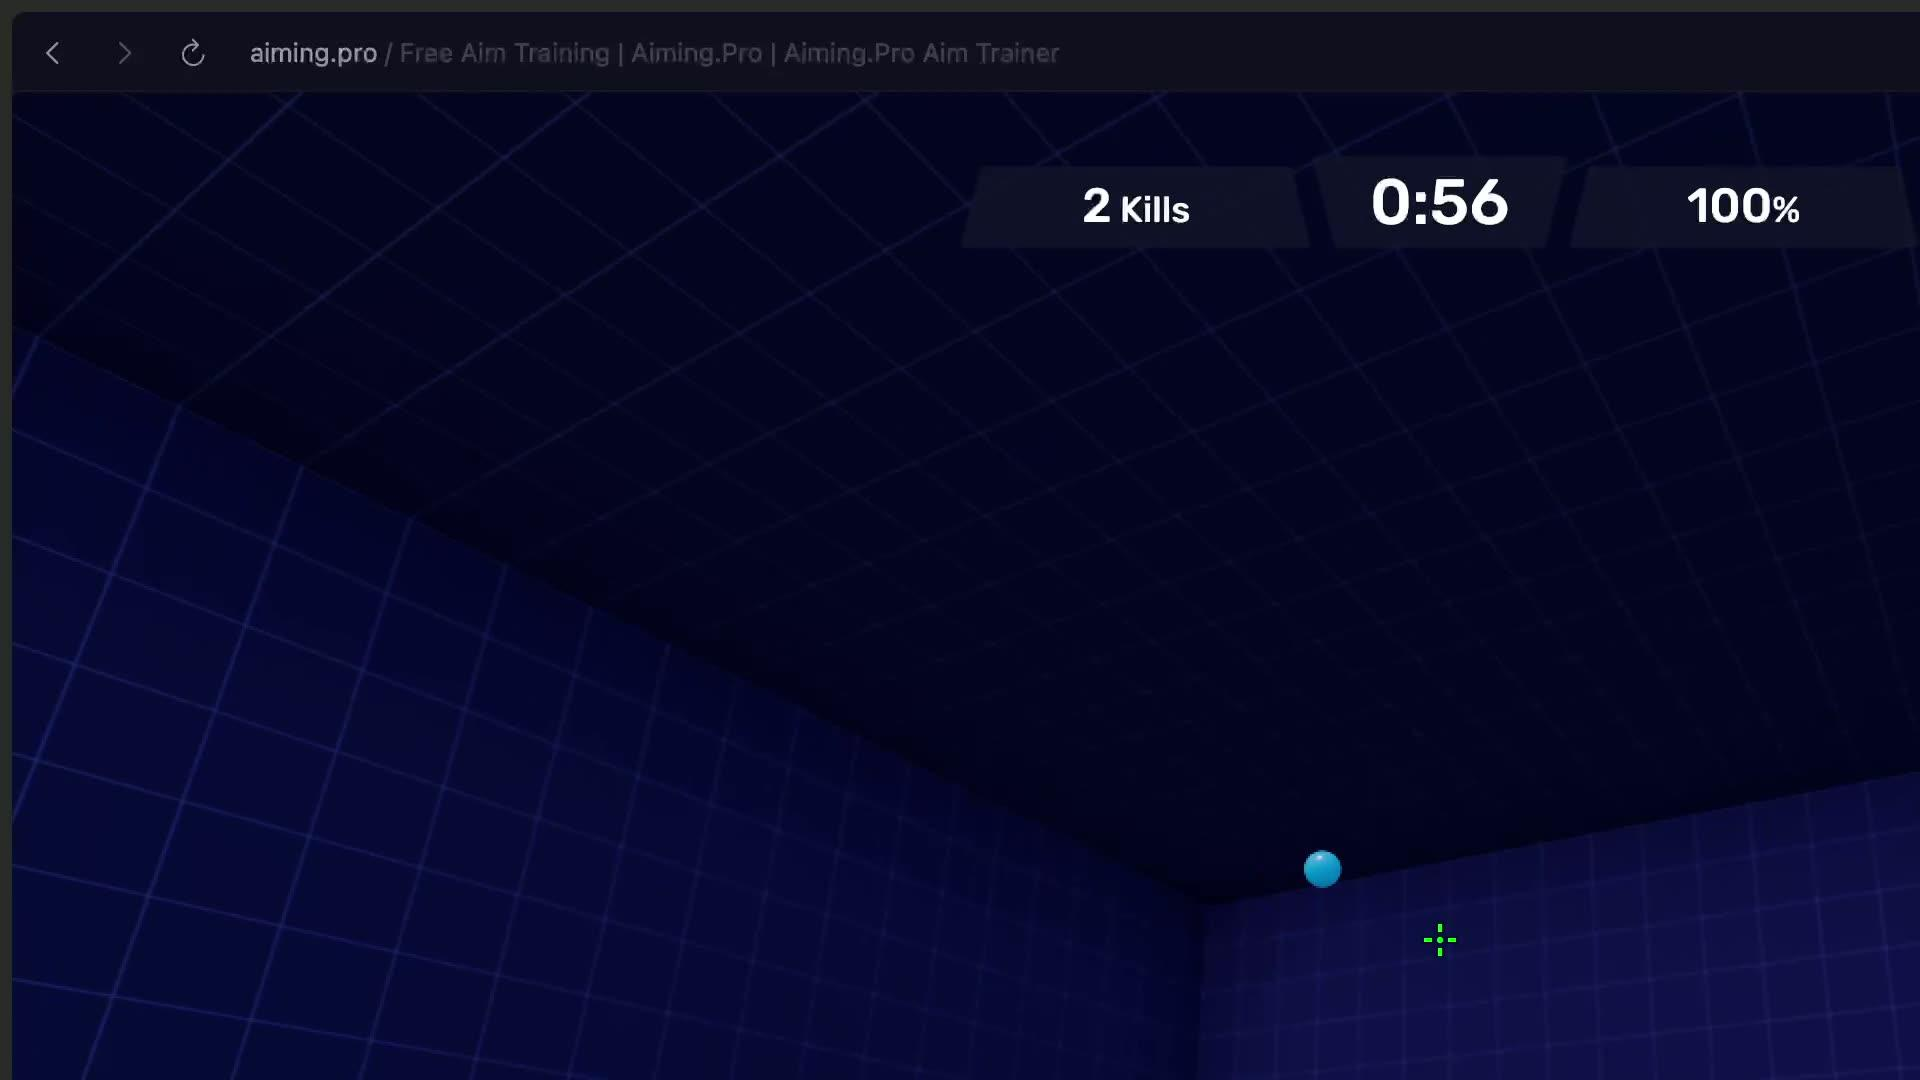target: (1304, 851, 1341, 887)
